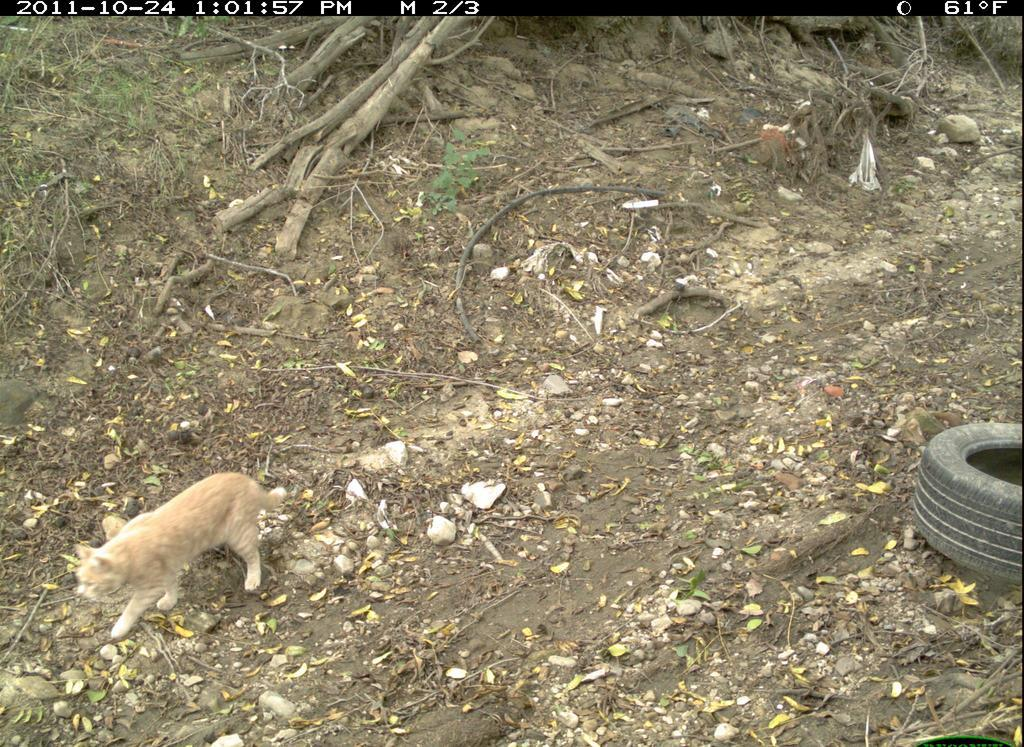cat: (48, 463, 305, 652)
